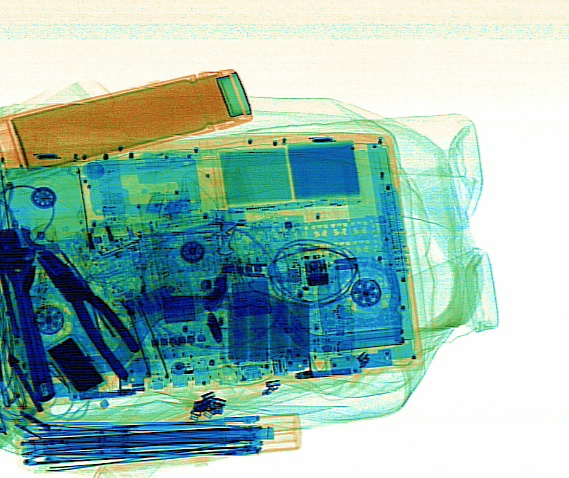powerbank: (224, 284, 357, 372)
